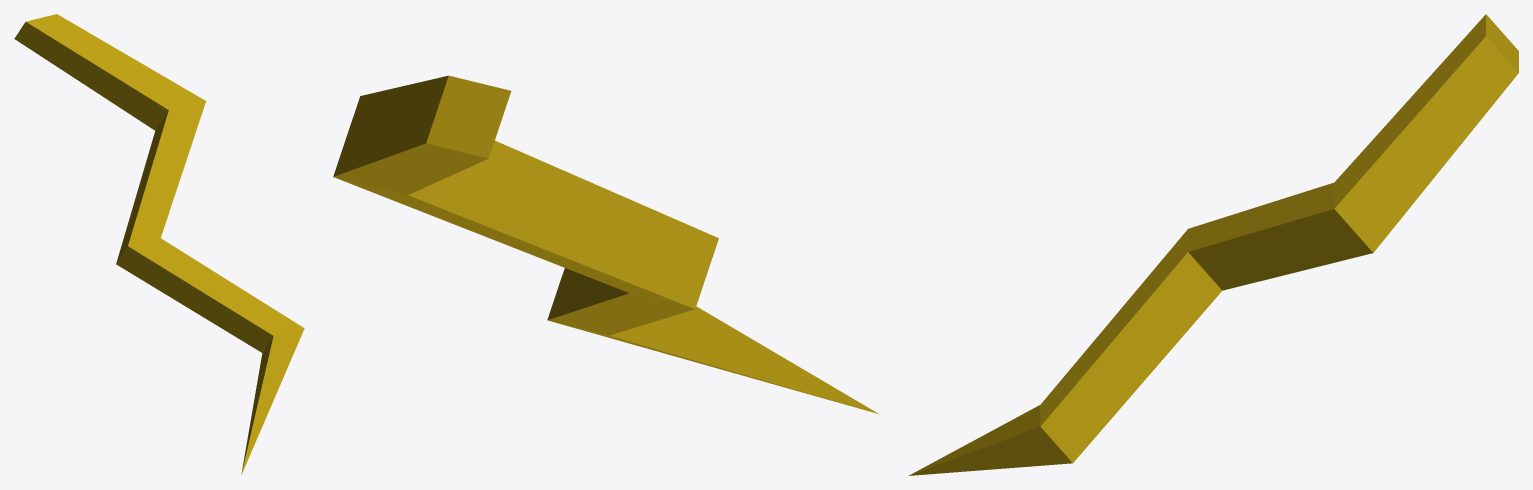
Rendered from Lightning.fbx.
3 renders of one model, left to right at view 1: azimuth 30°, elevation 25°; view 2: azimuth 150°, elevation 25°; view 3: azimuth 270°, elevation 25°, orthographic. The views are drawn at different scales.
Parts seen in each view (by area): view 1: Lightning; view 2: Lightning; view 3: Lightning.
Part boxes in pixels (left/top/right/bottom): Lightning: left=14, top=14, right=304, bottom=474; Lightning: left=333, top=75, right=878, bottom=413; Lightning: left=908, top=14, right=1518, bottom=475.
Bounding box in the file's own units: 344 × 795 × 976.
